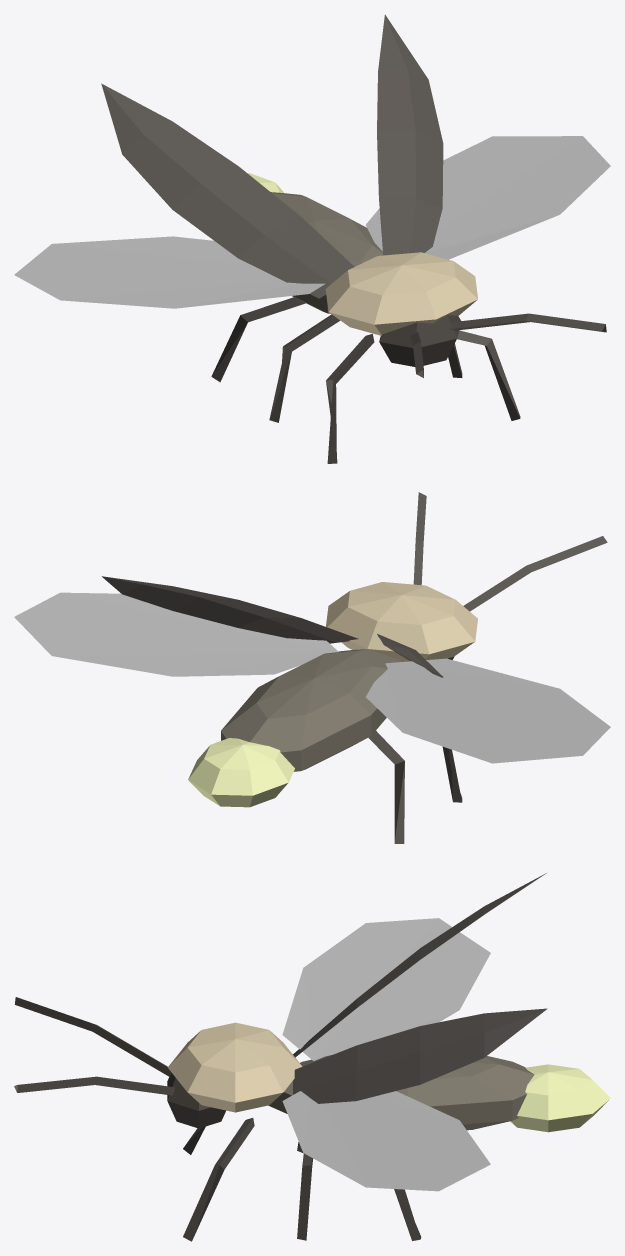
Rendered from firefly.glb.
The picture shows the model from 3 angles, top to bottom: view 1: azimuth 30°, elevation 25°; view 2: azimuth 150°, elevation 25°; view 3: azimuth 270°, elevation 25°; orthographic projection.
Visible parts, largest first — view 1: firefly; view 2: firefly; view 3: firefly.
Boxes of the visible parts, <box> form: firefly: <box>14,14,610,463</box>; firefly: <box>14,492,610,843</box>; firefly: <box>14,873,610,1241</box>.
Size of the model in its own units: 1.24 by 0.5434 by 1.14.
